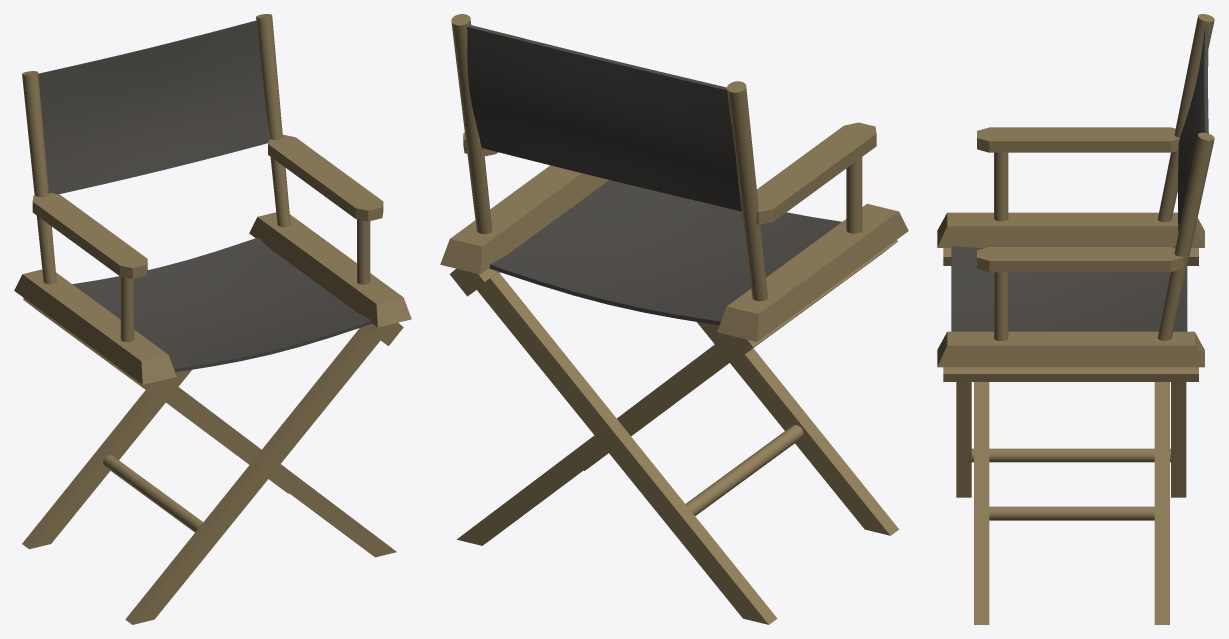
The model's file is Model_Film_Chair.fbx.
3 views of the same model, side by side, from view 1: azimuth 30°, elevation 25°; view 2: azimuth 150°, elevation 25°; view 3: azimuth 270°, elevation 25° (orthographic). The views are drawn at different scales.
Parts seen in each view (by area): view 1: seat1, seat, foot2, arm_base, arm_base2, foot, foot4, arm_bar2, arm_bar, back_pole, back_pole2, foot_support (+3 smaller); view 2: seat1, seat, foot4, arm_base, arm_base2, foot3, foot2, arm_bar, back_pole, back_pole2, foot_support, arm_support (+2 smaller); view 3: seat, arm_base2, arm_base, arm_bar2, arm_bar, foot, foot3, foot_base, back_pole2, foot_support, seat1, foot_support2 (+5 smaller).
Boxes of the visible parts, box(x1,y1,x2,y2) form: seat1: box(38, 20, 270, 194); seat: box(72, 237, 371, 372); foot2: box(125, 326, 380, 624); arm_base: box(14, 269, 176, 384); arm_base2: box(249, 212, 411, 327); foot: box(163, 383, 396, 557); foot4: box(22, 369, 191, 549); arm_bar2: box(268, 134, 383, 221); arm_bar: box(32, 193, 147, 278); back_pole: box(22, 71, 56, 284); back_pole2: box(256, 14, 290, 227); foot_support: box(103, 455, 203, 532); seat1: box(467, 25, 741, 211); seat: box(489, 180, 841, 325); foot4: box(476, 272, 777, 624); arm_base: box(717, 203, 908, 341); arm_base2: box(440, 165, 608, 274); foot3: box(457, 341, 733, 545); foot2: box(697, 322, 898, 535); arm_bar: box(741, 122, 876, 224); back_pole: box(727, 81, 767, 301); back_pole2: box(451, 14, 492, 233); foot_support: box(685, 425, 803, 515); arm_support: box(846, 157, 862, 233); seat: box(951, 245, 1187, 331); arm_base2: box(937, 331, 1204, 367); arm_base: box(937, 212, 1204, 247); arm_bar2: box(977, 247, 1183, 272); arm_bar: box(977, 127, 1179, 152); foot: box(974, 382, 989, 624); foot3: box(1154, 382, 1169, 624); foot_base: box(943, 367, 1198, 381); back_pole2: box(1158, 132, 1214, 340); foot_support: box(971, 448, 1170, 462); seat1: box(1178, 24, 1208, 232); foot_support2: box(989, 506, 1154, 520).
Bounding box in the file's own units: 2.18 × 3.51 × 1.84.
